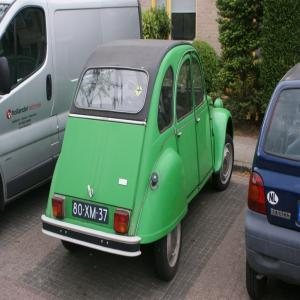Vehicle-registration-plate: (73, 200, 109, 227)
